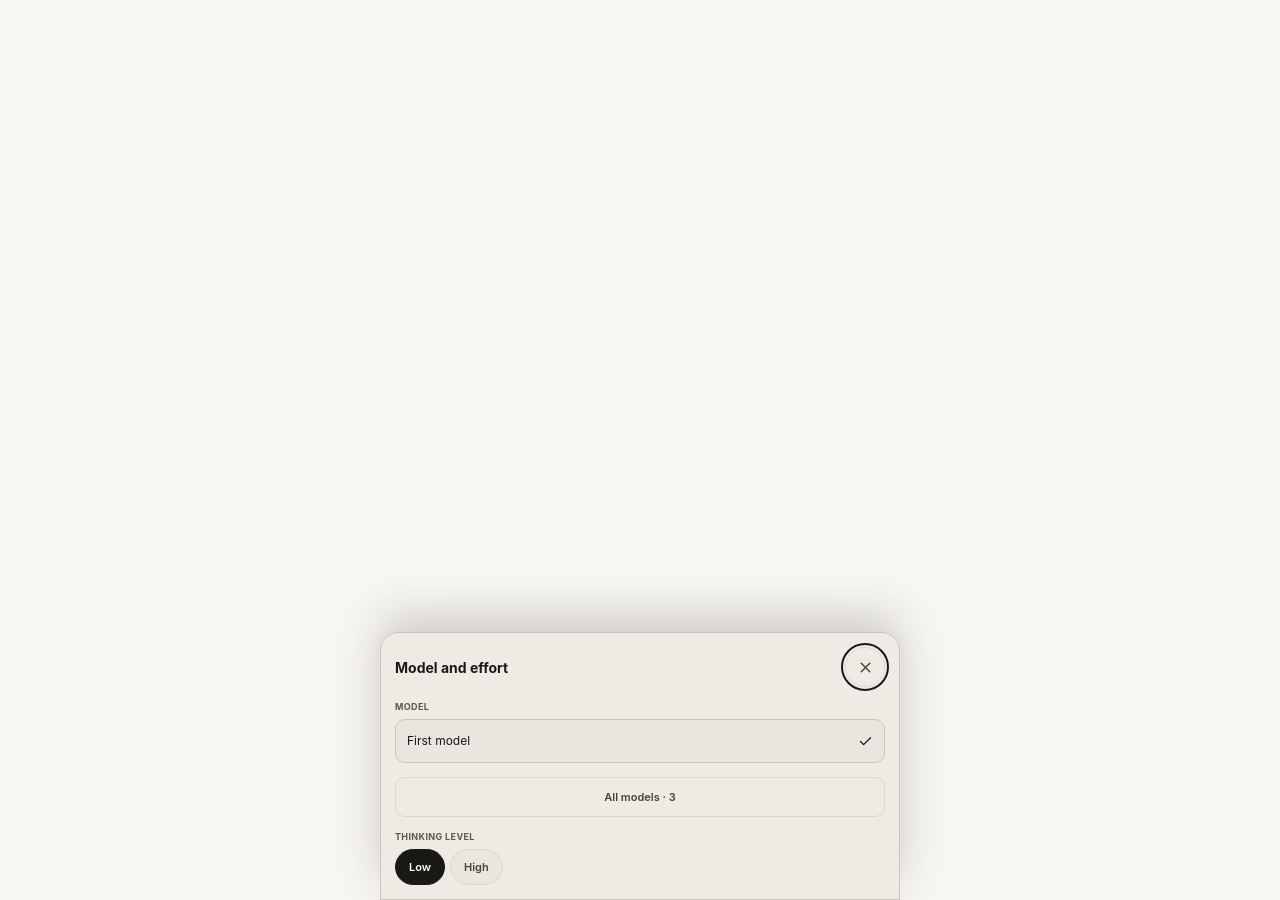
ModelSheet › expands the full model list with a count in the expander's label
Click the button "All models · 3" at (640, 797), box [395, 777, 885, 817]
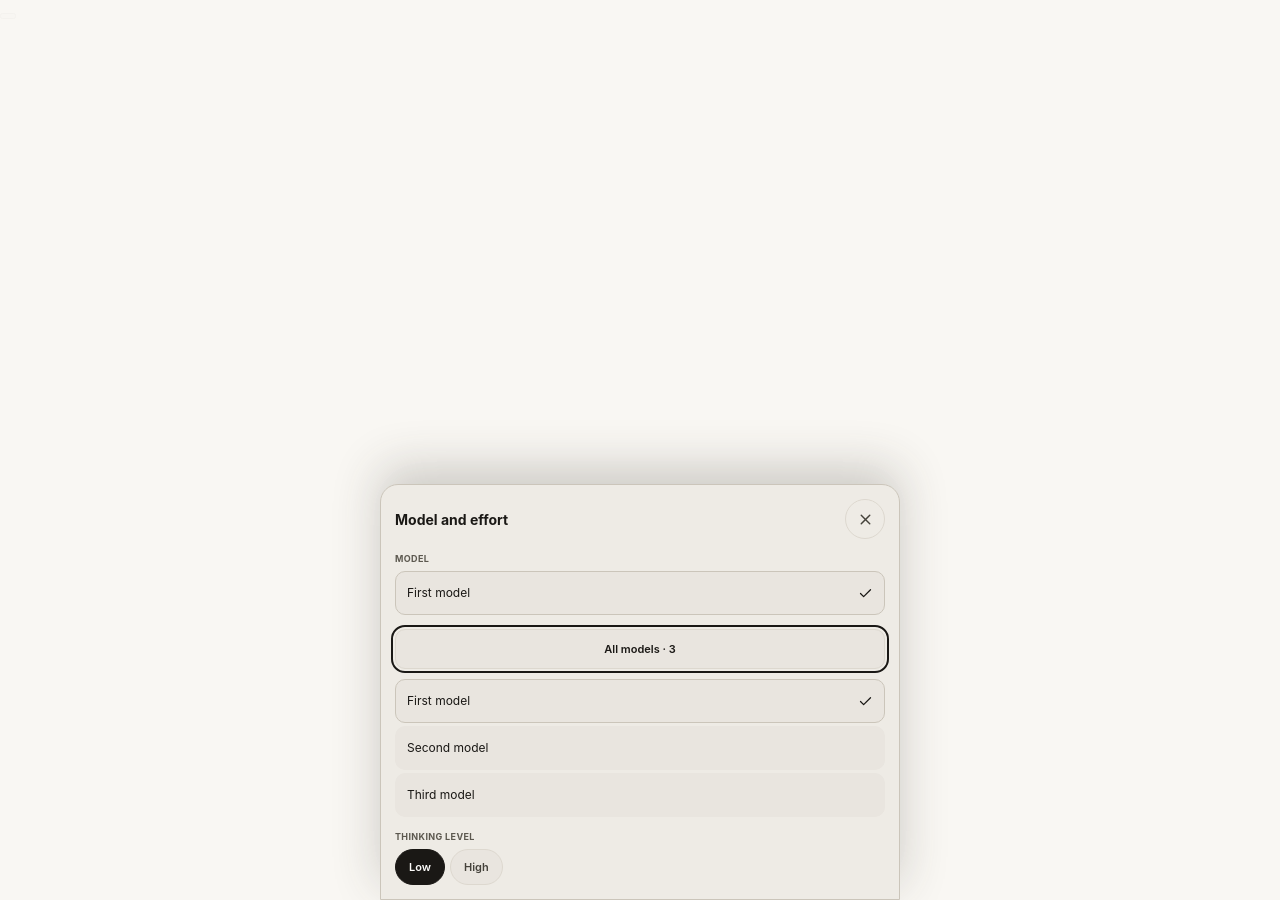
Expected: the button "All models · 3" is expanded, [395, 629, 885, 669]
Expected: the radio button labelled "Third model" is shown, [395, 773, 885, 817]
